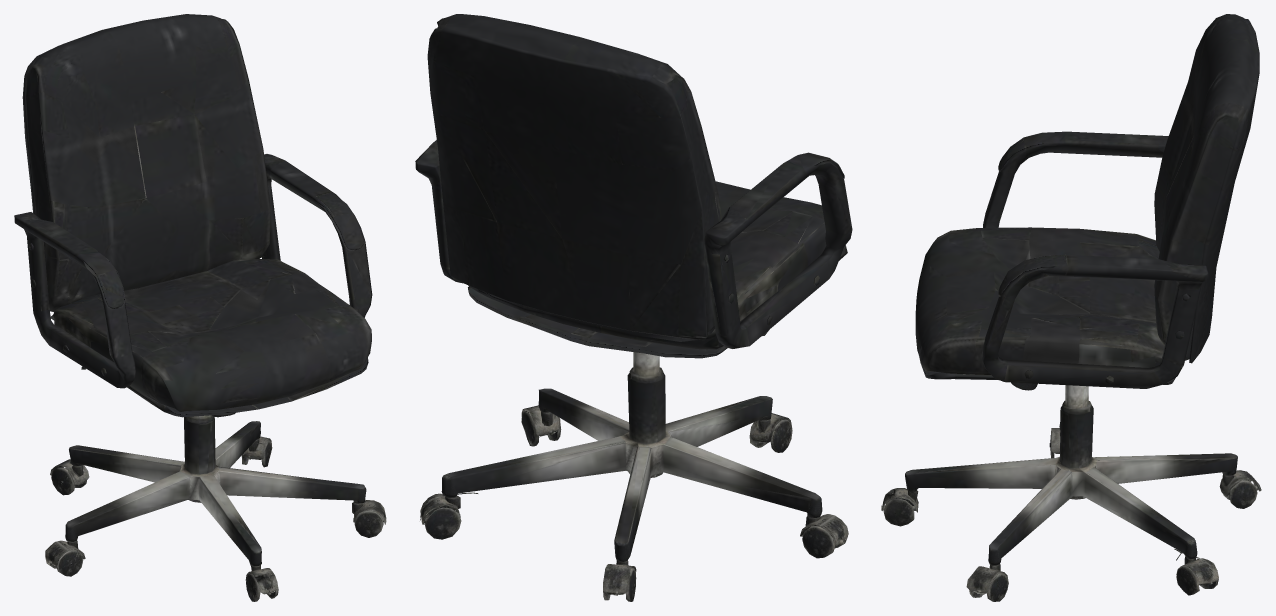
The model's file is prop_office_chair.glb.
3 views of the same model, side by side, from view 1: azimuth 30°, elevation 25°; view 2: azimuth 150°, elevation 25°; view 3: azimuth 270°, elevation 25° (orthographic). The views are drawn at different scales.
Bounding box in the file's own units: 0.6602 × 0.9497 × 0.6768.
1 material, 1 textured.
